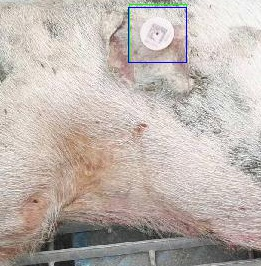text: (129, 4, 186, 62)
